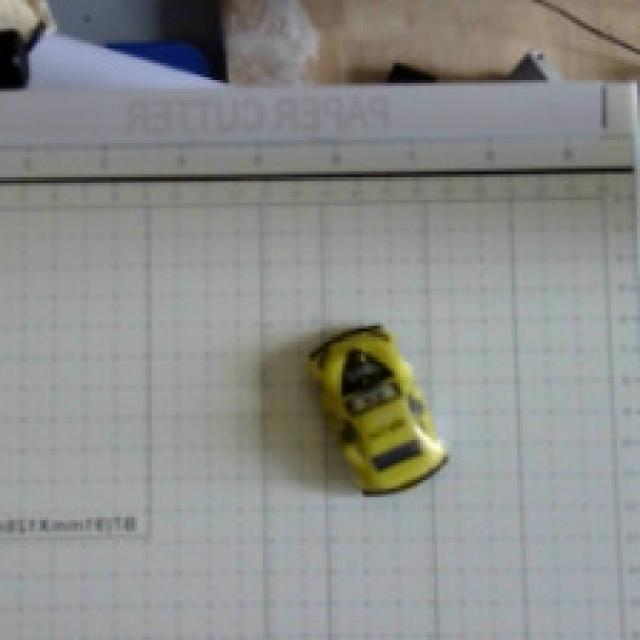Yellow Car: (272, 286, 482, 527)
